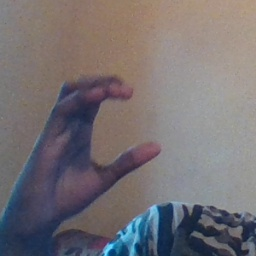C: (41, 71, 165, 190)
